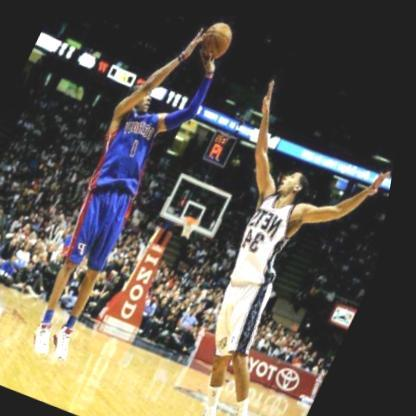basketball: (195, 14, 239, 59)
